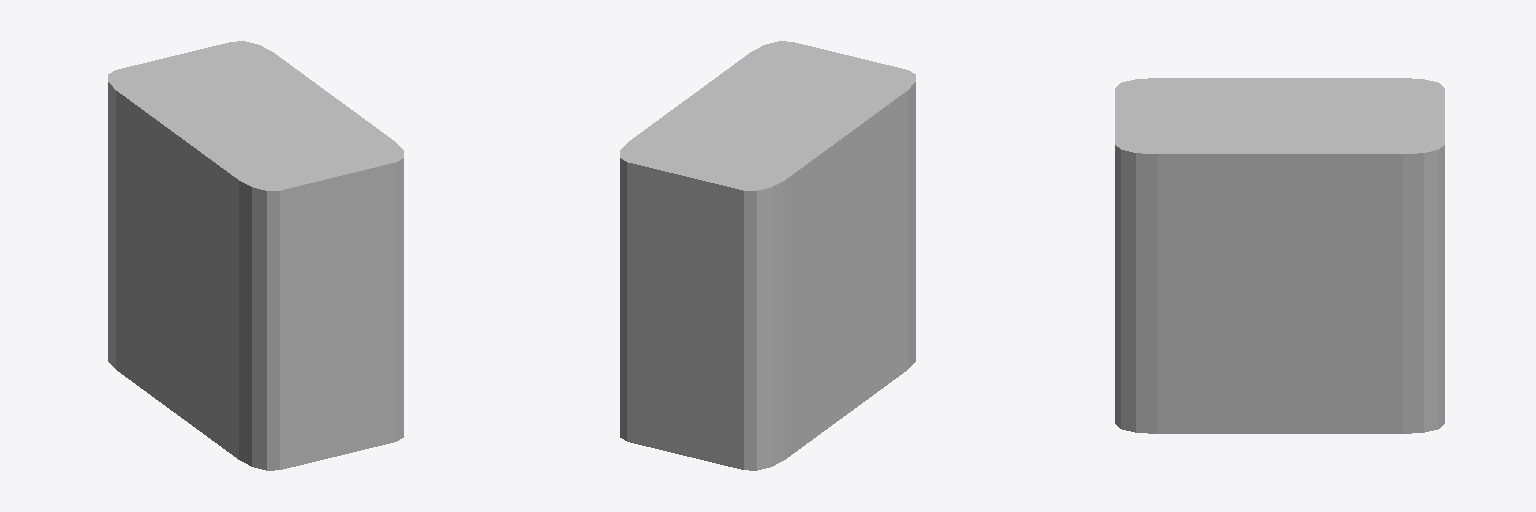
The model's file is Torre.obj.
3 views of the same model, side by side, from view 1: azimuth 30°, elevation 25°; view 2: azimuth 150°, elevation 25°; view 3: azimuth 270°, elevation 25° (orthographic).
Visible parts, largest first — view 1: Torre; view 2: Torre; view 3: Torre.
Part boxes in pixels (x1,y1,x2,y2): Torre: (108,41,403,470); Torre: (620,41,915,470); Torre: (1115,78,1444,433).
Bounding box in the file's own units: 10.69 × 18.21 × 19.44.